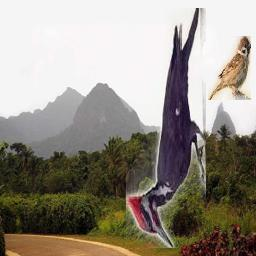Sparrow: (209, 36, 252, 100)
Woodpecker: (126, 8, 206, 248)
